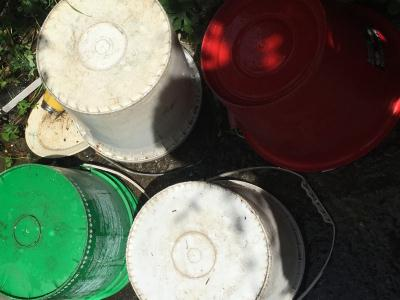bucket: (197, 1, 398, 175), (30, 1, 206, 165), (123, 168, 336, 298), (1, 158, 141, 299)
plate: (25, 92, 89, 158)
